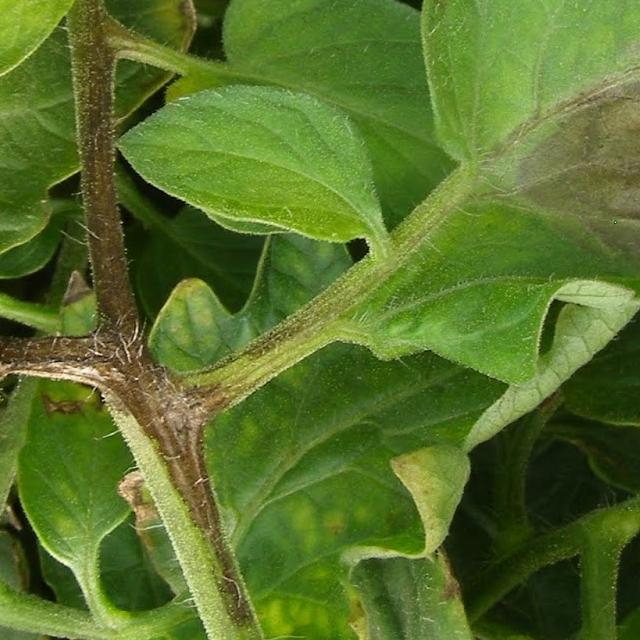Tomato mold leaf: (401, 0, 640, 381), (108, 72, 396, 263)
